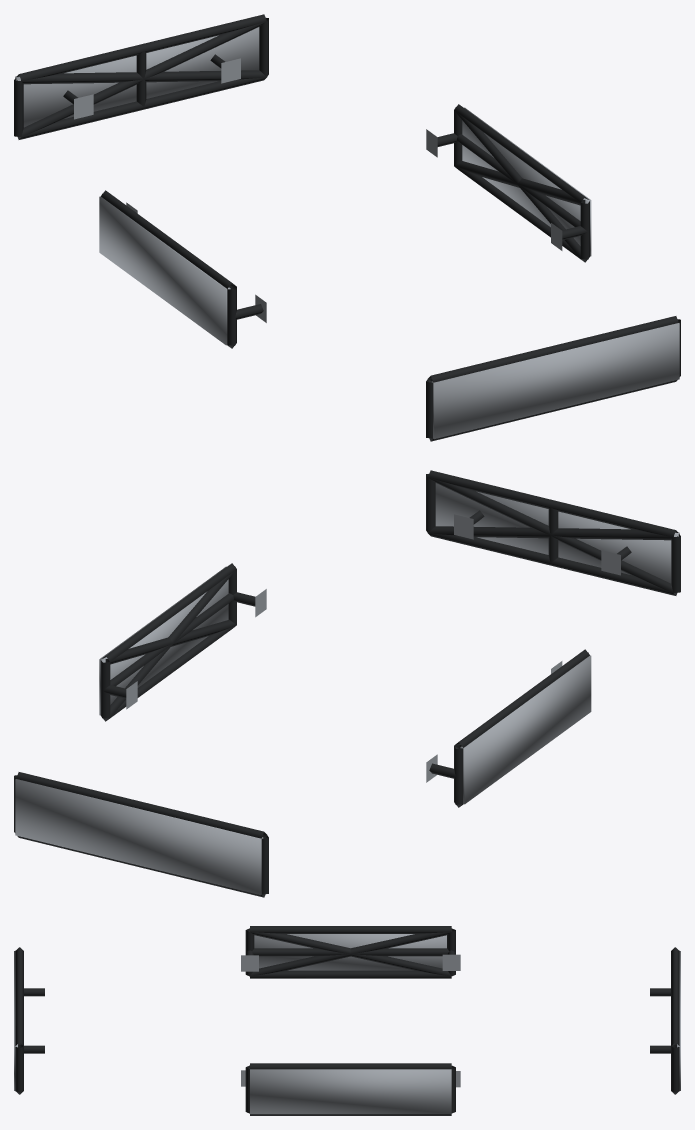
File: kosame_moita_protecao.glb
The picture shows the model from 3 angles, top to bottom: view 1: azimuth 30°, elevation 25°; view 2: azimuth 150°, elevation 25°; view 3: azimuth 270°, elevation 25°; orthographic projection. The views are drawn at different scales.
Parts seen in each view (by area): view 1: Protection_front_Level3_Details, Protection_left_Level3_Details, Protection_rear_Level1_Details, Protection_rear_Level3_Details, Protection_rear_Level2_Details, Protection_right_Level1_Details, Protection_right_Level2_Details, Protection_front_Level1_Details, Protection_right_Level3_Details, Protection_left_Level1_Details; view 2: Protection_rear_Level3_Details, Protection_left_Level3_Details, Protection_front_Level1_Details, Protection_front_Level3_Details, Protection_front_Level2_Details, Protection_right_Level1_Details, Protection_right_Level2_Details, Protection_rear_Level1_Details, Protection_right_Level3_Details, Protection_left_Level1_Details; view 3: Protection_right_Level3_Details, Protection_left_Level1_Details, Protection_left_Level2_Details, Protection_left_Level3_Details, Protection_right_Level1_Details, Protection_rear_Level1_Details, Protection_front_Level1_Details.
Boxes of the visible parts, x1,y1,x2,y2 form: Protection_front_Level3_Details: [431, 323, 679, 439]; Protection_left_Level3_Details: [99, 196, 230, 345]; Protection_rear_Level1_Details: [14, 14, 268, 139]; Protection_rear_Level3_Details: [15, 27, 259, 127]; Protection_rear_Level2_Details: [16, 21, 266, 138]; Protection_right_Level1_Details: [426, 104, 589, 262]; Protection_right_Level2_Details: [454, 110, 588, 261]; Protection_front_Level1_Details: [426, 316, 680, 441]; Protection_right_Level3_Details: [462, 107, 591, 256]; Protection_left_Level1_Details: [101, 190, 266, 348]; Protection_rear_Level3_Details: [15, 779, 263, 895]; Protection_left_Level3_Details: [460, 655, 591, 804]; Protection_front_Level1_Details: [426, 470, 680, 595]; Protection_front_Level3_Details: [435, 483, 679, 583]; Protection_front_Level2_Details: [428, 477, 678, 594]; Protection_right_Level1_Details: [100, 563, 266, 721]; Protection_right_Level2_Details: [102, 570, 236, 720]; Protection_rear_Level1_Details: [14, 772, 268, 897]; Protection_right_Level3_Details: [99, 566, 228, 715]; Protection_left_Level1_Details: [426, 649, 589, 807]; Protection_right_Level3_Details: [250, 1069, 451, 1114]; Protection_left_Level1_Details: [241, 926, 460, 978]; Protection_left_Level2_Details: [249, 929, 451, 976]; Protection_left_Level3_Details: [254, 934, 446, 970]; Protection_right_Level1_Details: [241, 1063, 460, 1115]; Protection_rear_Level1_Details: [650, 947, 679, 1094]; Protection_front_Level1_Details: [15, 947, 44, 1094].
Size of the model in its own units: 2.05 by 0.354 by 4.07.
Materials: 1 (1 with a texture image).
